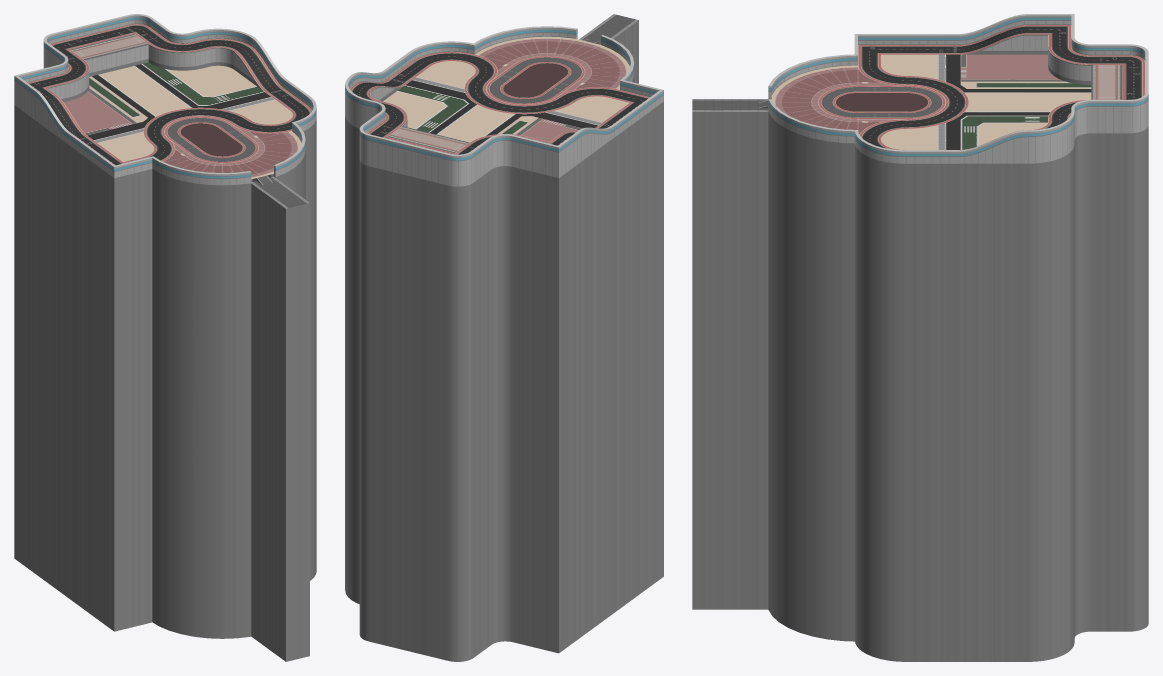
Rendered from ground.glb.
3 renders of one model, left to right at view 1: azimuth 30°, elevation 25°; view 2: azimuth 150°, elevation 25°; view 3: azimuth 270°, elevation 25°, orthographic. The views are drawn at different scales.
Parts seen in each view (by area): view 1: ground; view 2: ground; view 3: ground.
Part boxes in pixels (x1,y1,x2,y2): ground: (14, 14, 316, 661); ground: (345, 14, 663, 661); ground: (692, 14, 1148, 661).
Bounding box in the file's own units: 252 × 530 × 413.
3 materials, 3 textured.
